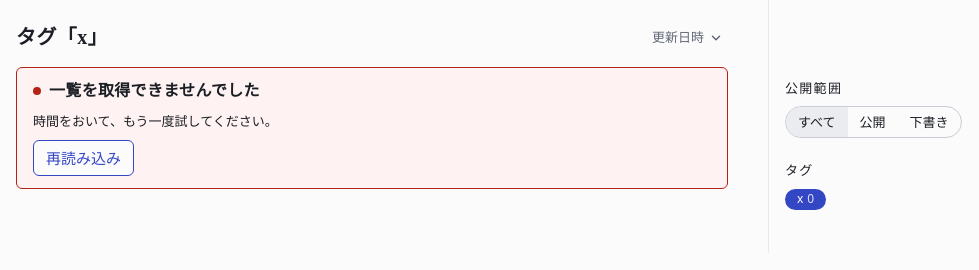
Test: HomeView の取得の失敗 › 再読み込みで同じ条件を取り直し、届いたら一覧を出す
What coordinates should you click on to do the following:
click the button "再読み込み"
I would click on:
 (84, 158)
Its box is [33,140,134,176].
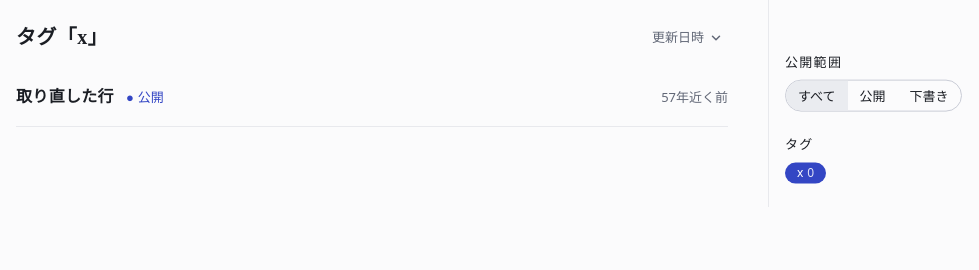
Result: the link with class "entry-title" reads "取り直した行" at [16,83,114,110]
Result: the text "一覧を取得できませんでした" is gone
